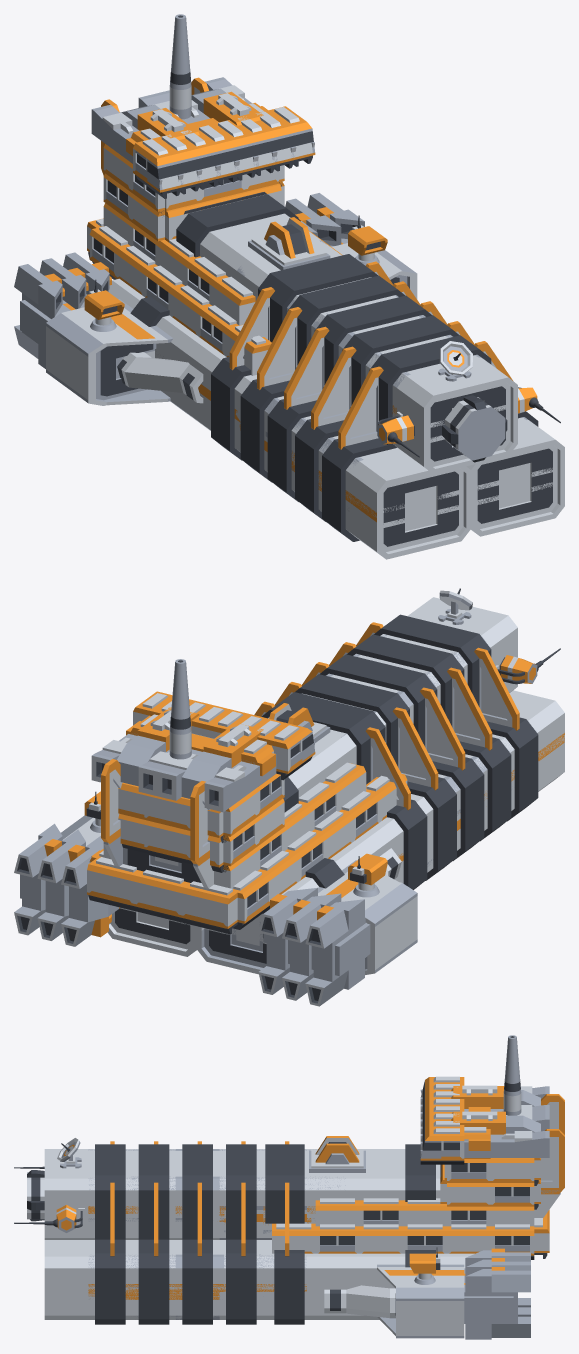
File: cargo_lourd_1.glb
3 renders of one model, top to bottom at view 1: azimuth 30°, elevation 25°; view 2: azimuth 150°, elevation 25°; view 3: azimuth 270°, elevation 25°, orthographic. The views are drawn at different scales.
Visible parts, largest first — view 1: mergedBlocks(Clone); view 2: mergedBlocks(Clone); view 3: mergedBlocks(Clone).
Part boxes in pixels (bbox=[...]): mergedBlocks(Clone): bbox=[14, 14, 564, 559]; mergedBlocks(Clone): bbox=[14, 588, 564, 1006]; mergedBlocks(Clone): bbox=[14, 1035, 564, 1339].
Size of the model in its own units: 7 by 6.4 by 12.6.
1 material, 1 textured.
